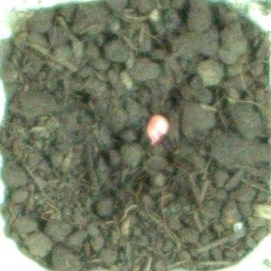chilli seed: (145, 112, 170, 146)
